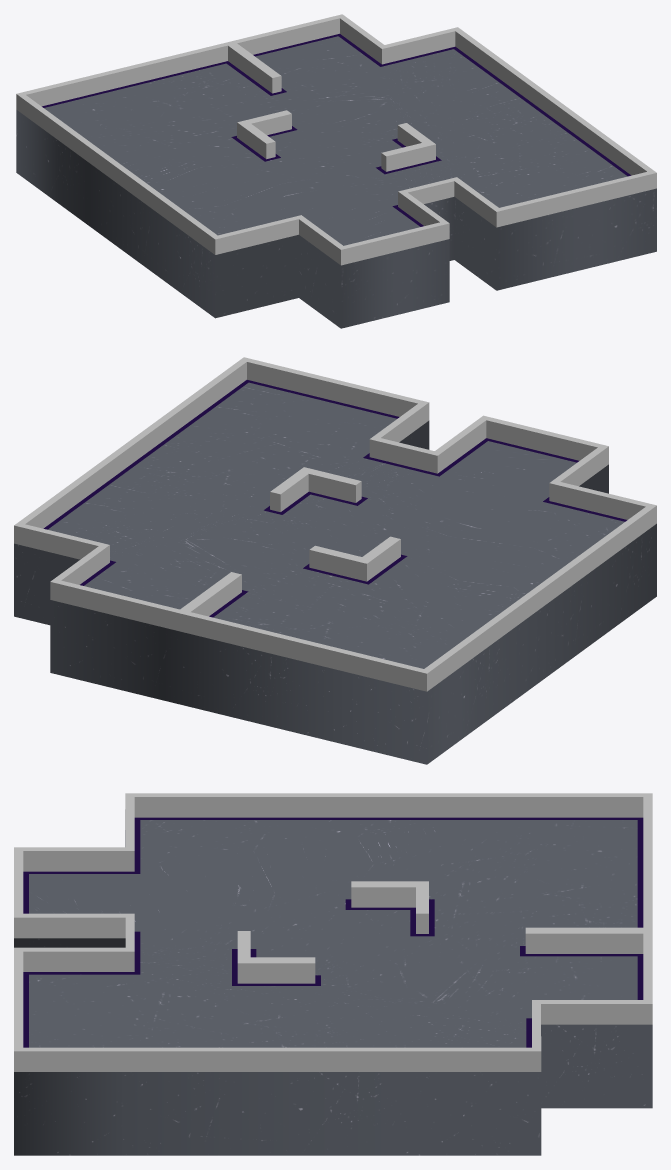
File: Battle_Stage 17.fbx
The picture shows the model from 3 angles, top to bottom: view 1: azimuth 30°, elevation 25°; view 2: azimuth 150°, elevation 25°; view 3: azimuth 270°, elevation 25°; orthographic projection. The views are drawn at different scales.
Visible parts, largest first — view 1: NY_Platform_Cube__1_, NY_Platform_Cube__1_.001, NY_Platform_Cube__1_.002; view 2: NY_Platform_Cube__1_, NY_Platform_Cube__1_.001, NY_Platform_Cube__1_.002; view 3: NY_Platform_Cube__1_, NY_Platform_Cube__1_.001, NY_Platform_Cube__1_.002.
Boxes of the visible parts, box(x1,y1,x2,y2) form: NY_Platform_Cube__1_: box(16, 36, 656, 328); NY_Platform_Cube__1_.001: box(16, 14, 656, 265); NY_Platform_Cube__1_.002: box(42, 33, 630, 226); NY_Platform_Cube__1_: box(14, 382, 656, 764); NY_Platform_Cube__1_.001: box(14, 357, 656, 691); NY_Platform_Cube__1_.002: box(43, 380, 627, 617); NY_Platform_Cube__1_: box(14, 820, 652, 1155); NY_Platform_Cube__1_.001: box(14, 793, 652, 1071); NY_Platform_Cube__1_.002: box(23, 817, 643, 1047).
Size of the model in its own units: 6625 by 1247 by 6960.
